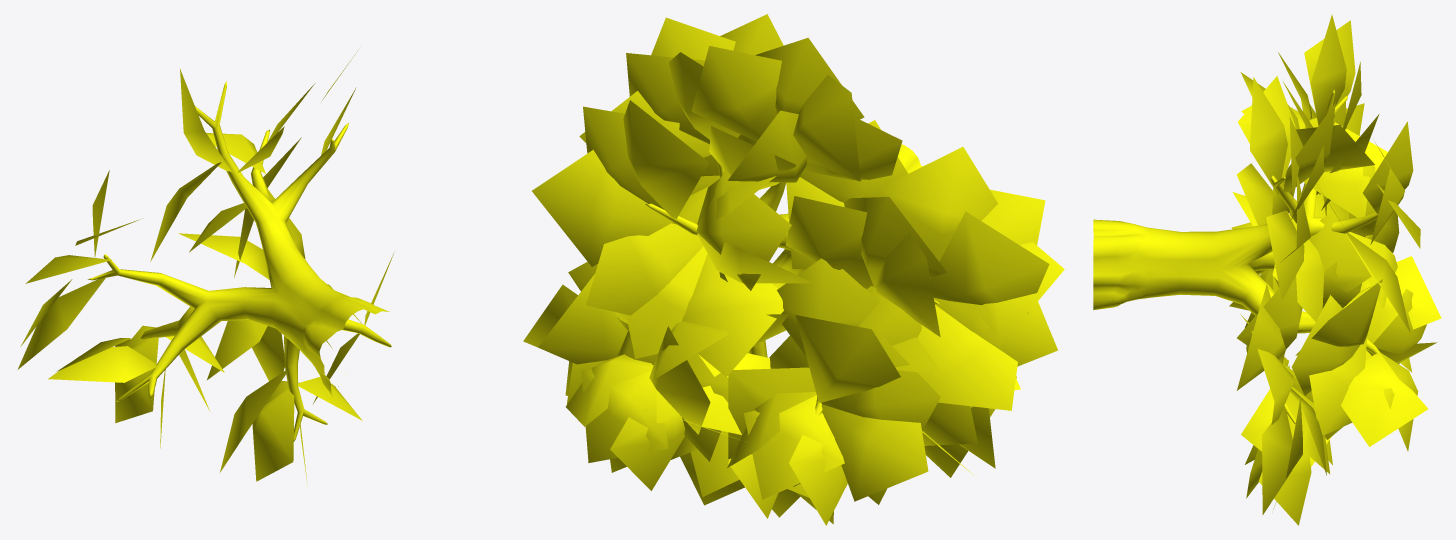
Rendered from oak_tree.glb.
3 renders of one model, left to right at view 1: azimuth 30°, elevation 25°; view 2: azimuth 150°, elevation 25°; view 3: azimuth 270°, elevation 25°, orthographic. The views are drawn at different scales.
Parts seen in each view (by area): view 1: Oak_tree1; view 2: Oak_tree1; view 3: Oak_tree1.
Part boxes in pixels (x1,y1,x2,y2): Oak_tree1: [17, 52, 394, 485]; Oak_tree1: [523, 14, 1064, 525]; Oak_tree1: [1093, 14, 1441, 525].
Size of the model in its own units: 20.96 by 20.18 by 14.09.
Materials: 2 (2 with a texture image).
